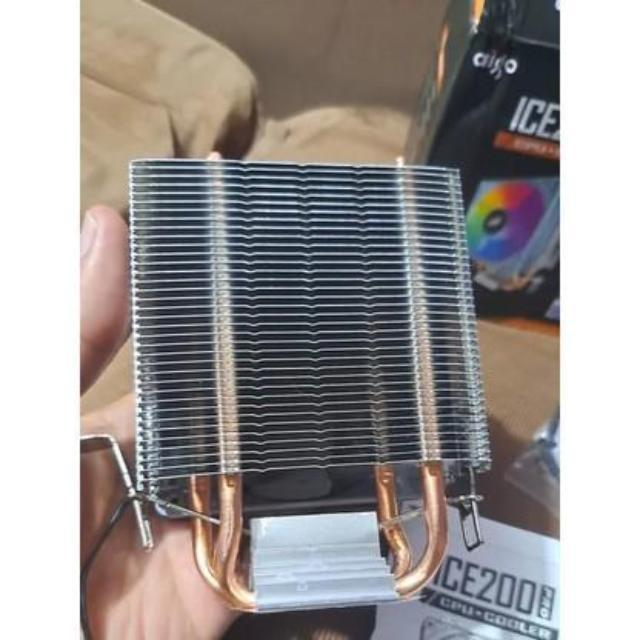CPU_Fan: (124, 152, 496, 608)
